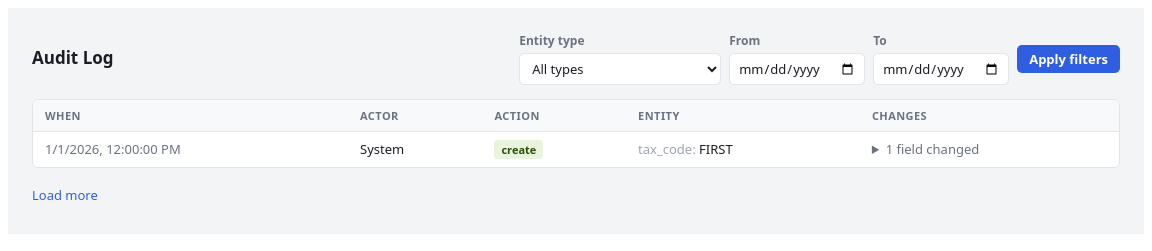
Test: AuditLogScreen › Load More › appends new entries rather than replacing the existing list
The image size is (1152, 251).
Expected: the text "FIRST" is shown, [699, 140, 733, 158]
Click the button "Load more". click: (65, 195)
box: [32, 180, 98, 210]
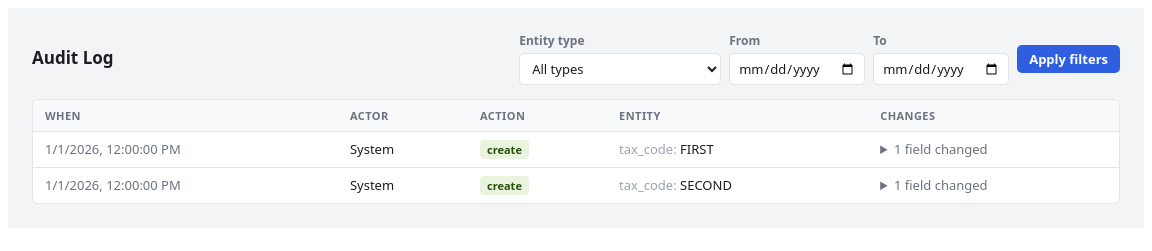
Expected: the text "FIRST" is shown, [680, 140, 714, 158]
Expected: the text "SECOND" is shown, [680, 176, 732, 194]
